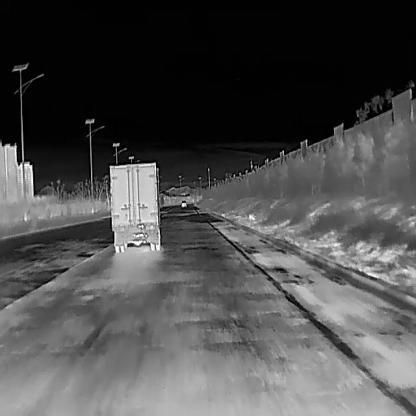car: (108, 161, 163, 251), (180, 199, 187, 206)
